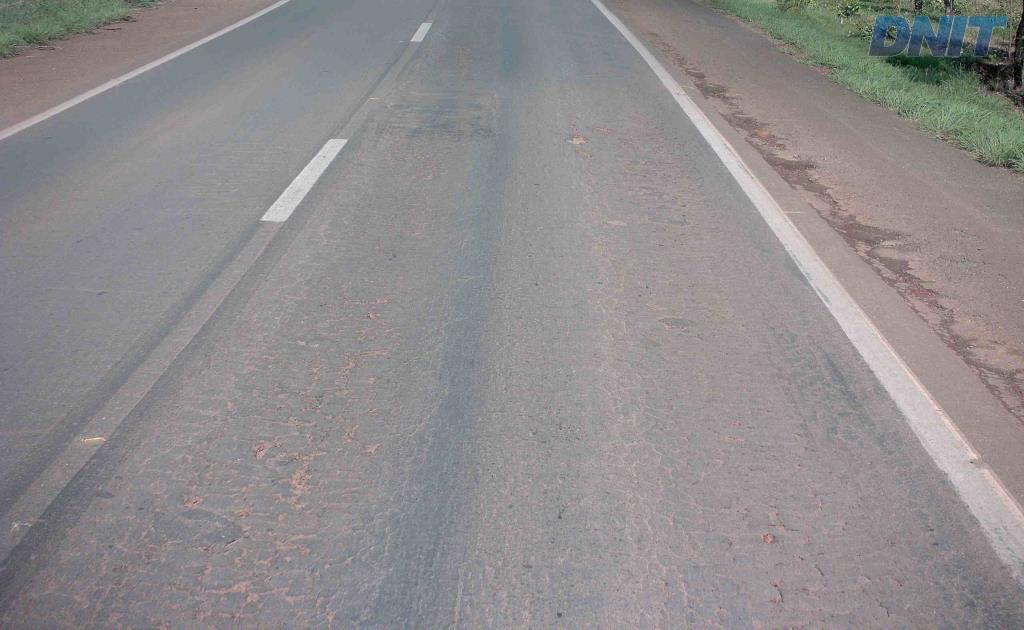pothole: (562, 131, 592, 154)
